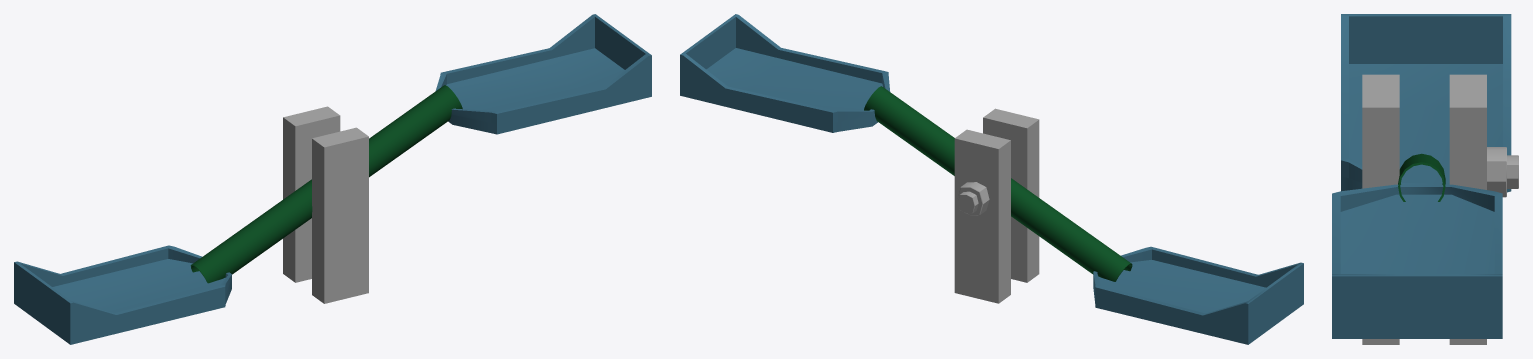
File: sisiodosi.fbx
The picture shows the model from 3 angles, left to right: view 1: azimuth 30°, elevation 25°; view 2: azimuth 150°, elevation 25°; view 3: azimuth 270°, elevation 25°; orthographic projection. The views are drawn at different scales.
Parts seen in each view (by area): view 1: pCube3, pCube4, pCube2, pCylinder1, pCube1; view 2: pCube3, pCube4, pCube1, pCylinder1, pCube2; view 3: pCube3, pCube4, pCube1, pCube2, pCylinder1.
Part boxes in pixels (left/top/right/bottom): pCube3: left=435, top=14, right=651, bottom=134; pCube4: left=14, top=245, right=231, bottom=344; pCube2: left=312, top=127, right=368, bottom=303; pCylinder1: left=190, top=85, right=462, bottom=283; pCube1: left=283, top=106, right=340, bottom=282; pCube3: left=680, top=14, right=890, bottom=132; pCube4: left=1093, top=246, right=1303, bottom=344; pCube1: left=954, top=129, right=1010, bottom=303; pCylinder1: left=864, top=86, right=1132, bottom=281; pCube2: left=983, top=108, right=1039, bottom=282; pCube3: left=1332, top=184, right=1502, bottom=338; pCube4: left=1341, top=14, right=1511, bottom=192; pCube1: left=1449, top=74, right=1518, bottom=344; pCube2: left=1362, top=74, right=1399, bottom=344; pCylinder1: left=1398, top=153, right=1445, bottom=201.
Bounding box in the file's own units: 66.27 × 19.55 × 12.23.
